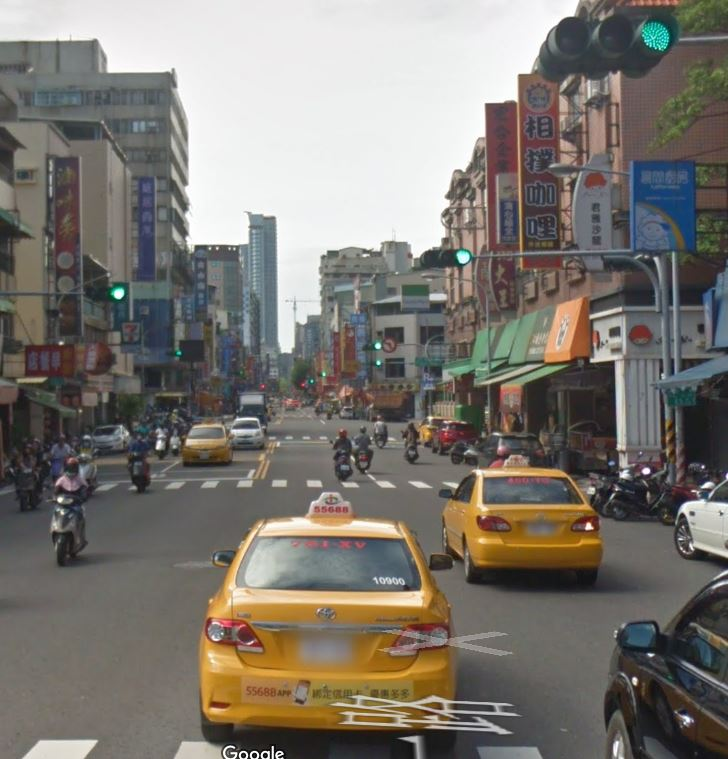Traffic_light_green: (536, 10, 678, 80), (415, 245, 473, 269), (85, 284, 130, 304)
car: (190, 504, 469, 743), (436, 447, 609, 586), (183, 419, 237, 466)
motorcycle: (49, 489, 89, 568), (122, 448, 152, 492), (327, 443, 353, 481), (355, 441, 373, 472)
